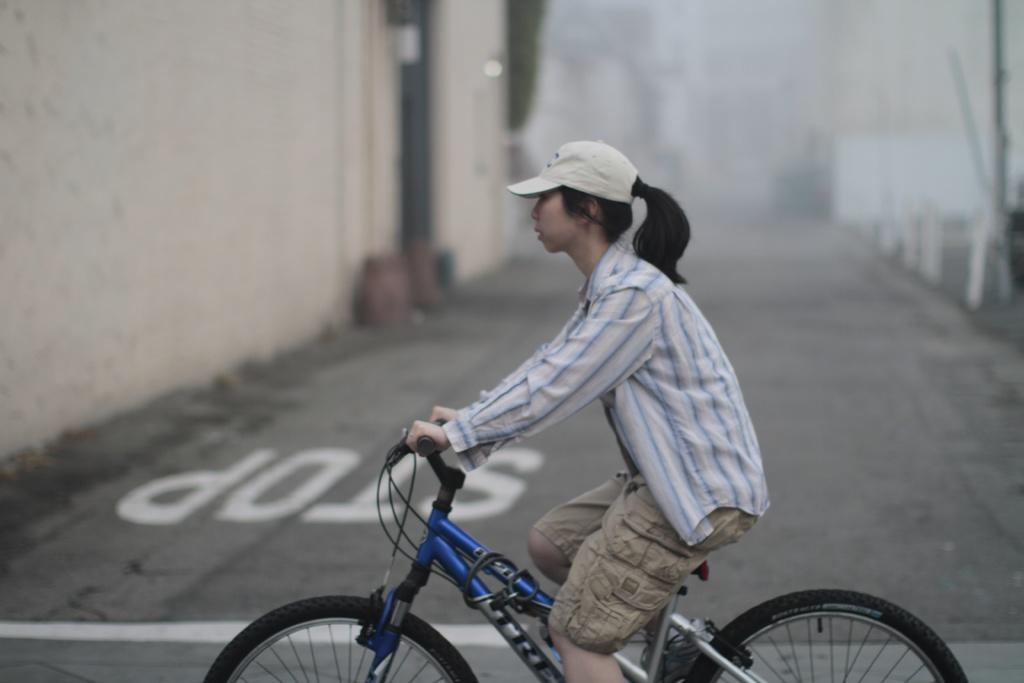Hat: (508, 142, 640, 206)
